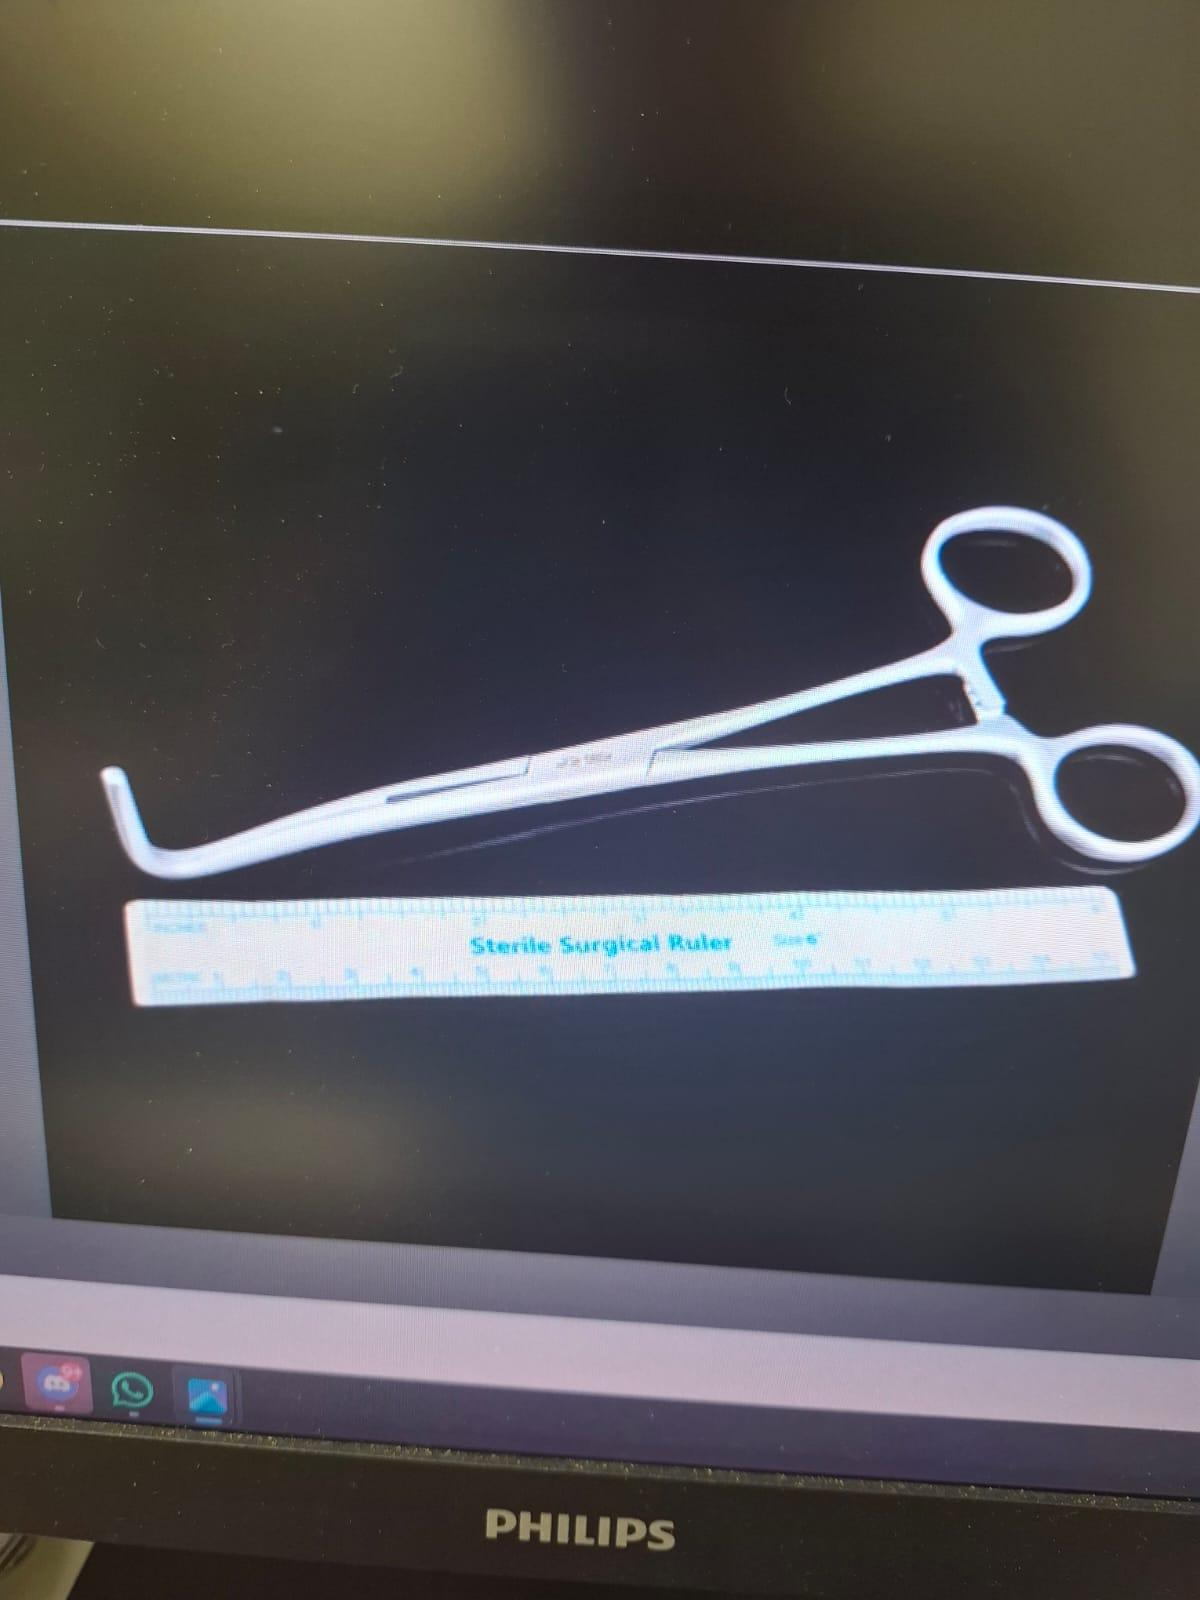Rectangle Cholecystectomy Forceps: (100, 477, 1200, 918)
